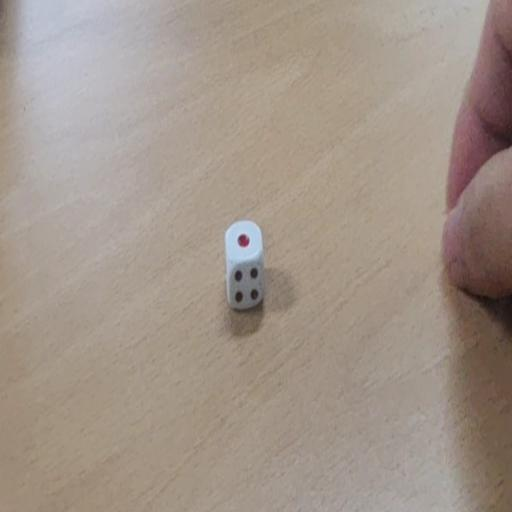dice_1: (223, 216, 267, 314)
